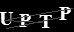P: (17, 13, 32, 28), (57, 6, 72, 21)
T: (38, 14, 54, 29)
U: (1, 11, 13, 26)
